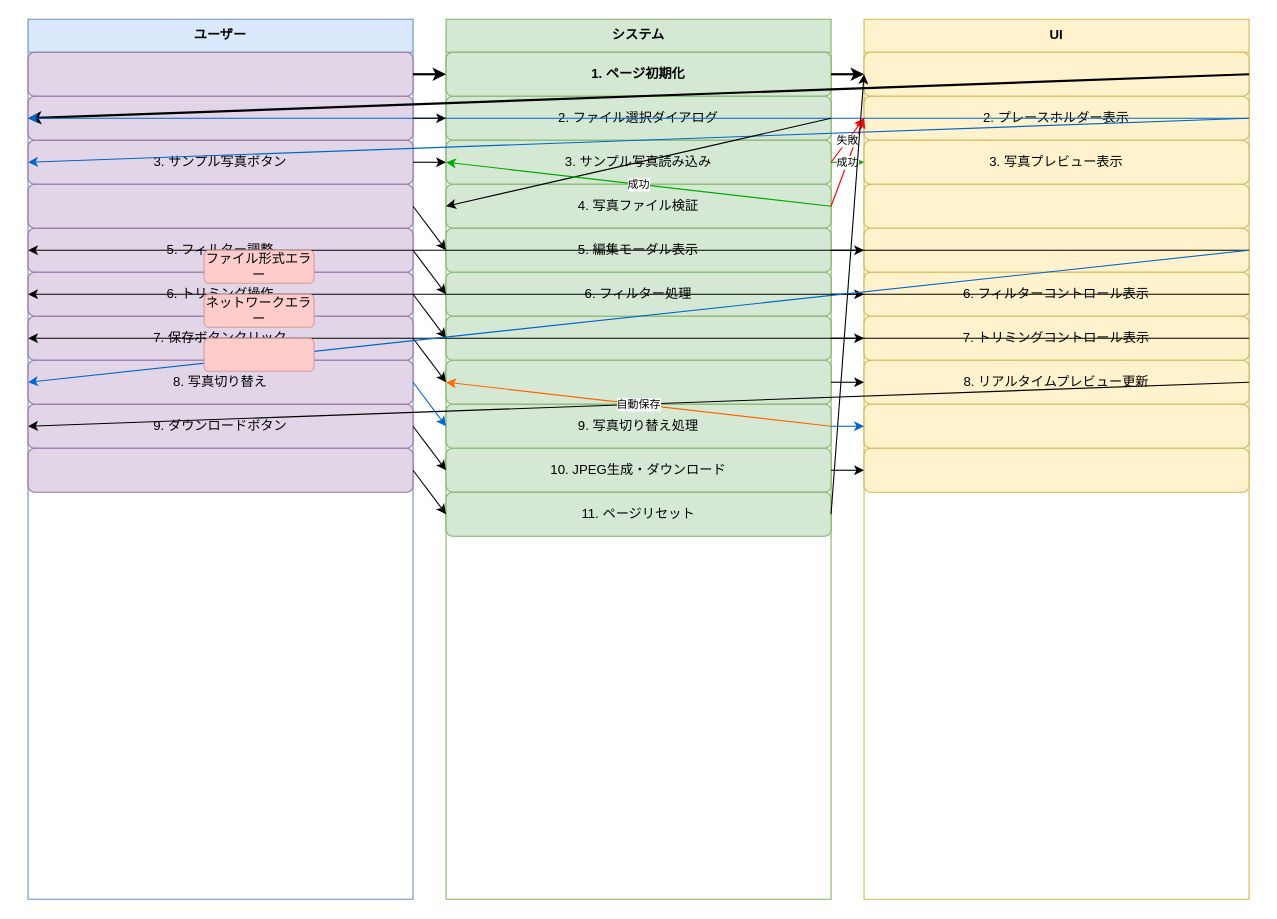
Some shapes in this 1277 by 919 pixel diagram are drawn without their labels. Here are the shapes that lost their labels. From the top down, the centre of each, then its label:
At (x=220, y=73): "1. ページにアクセス".
At (x=1056, y=73): "1. 3つのフレーム表示".
At (x=220, y=117): "2. フレームをクリック".
At (x=220, y=205): "4. 編集ボタンクリック".
At (x=1056, y=205): "4. 編集・削除ボタン表示".
At (x=1056, y=249): "5. 写真切り替えタブ表示".
At (x=258, y=354): "保存エラー".
At (x=638, y=337): "7. トリミング処理".
At (x=638, y=381): "8. 編集内容保存".
At (x=1056, y=425): "9. 写真切り替えUI表示".
At (x=220, y=469): "10. リセットボタン".
At (x=1056, y=469): "10. ダウンロード完了表示".
